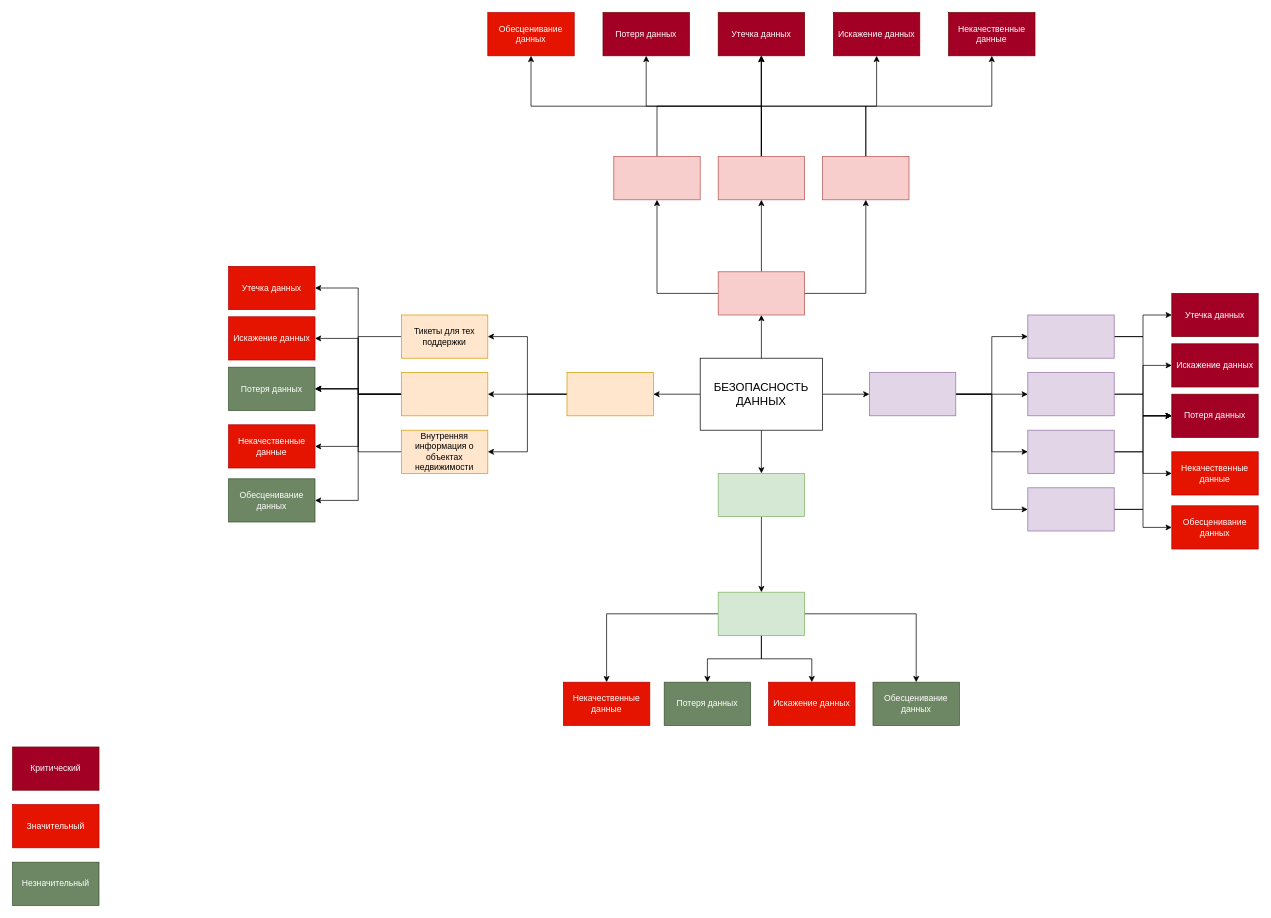
Some shapes in this 1271 by 918 pixel diagram are drawn without their labels. Each missing label, with the centre of its shape:
Внутренние: pixel 609 394
Данные с настройками устройств умного дома: pixel 1070 336
Интеграция с государственными регистрационными органами: pixel 761 178
Информация публикуемая на витринах (данные об объектах): pixel 761 613
Конфиденциальные: pixel 912 394
Логи и технические метрики: pixel 444 394
Персональные данные клиентов и собственников: pixel 1070 394
Платежные данные: pixel 1070 509
Показания приборов: pixel 1070 451
Публичные: pixel 761 495
Секретные: pixel 761 293
Секретные ключи для шифорвания и доступов: pixel 656 178
Финансовая информация компании: pixel 865 178
